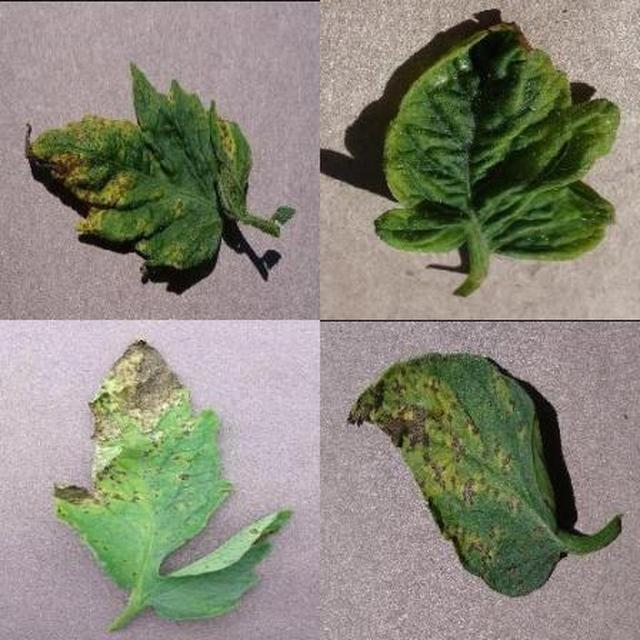Septoria Leaf: (198, 200, 640, 640)
